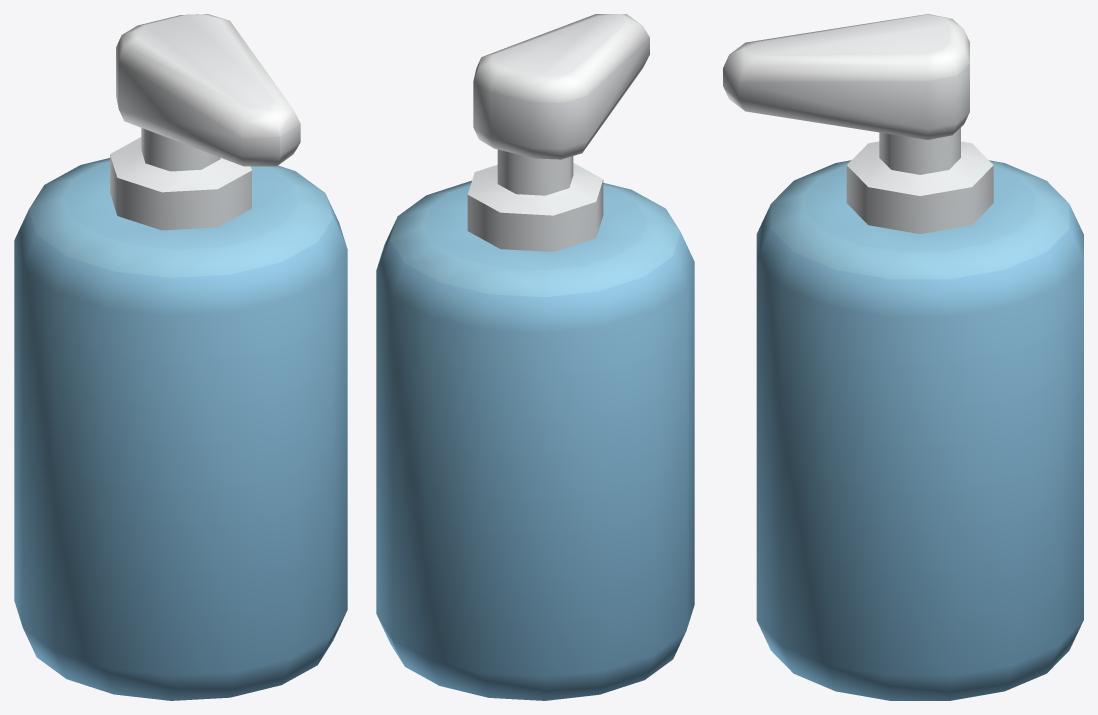
Rendered from Container Bathroom D-S4MytAYJb9.glb.
3 renders of one model, left to right at view 1: azimuth 30°, elevation 25°; view 2: azimuth 150°, elevation 25°; view 3: azimuth 270°, elevation 25°, orthographic. The views are drawn at different scales.
Parts seen in each view (by area): view 1: container_bathroom_D_blue; view 2: container_bathroom_D_blue; view 3: container_bathroom_D_blue.
Boxes of the visible parts, x1,y1,x2,y2 form: container_bathroom_D_blue: (14, 14, 347, 700); container_bathroom_D_blue: (376, 14, 694, 700); container_bathroom_D_blue: (723, 14, 1083, 700).
Bounding box in the file's own units: 0.312 × 0.65 × 0.3445.
Materials: 1 (1 with a texture image).
